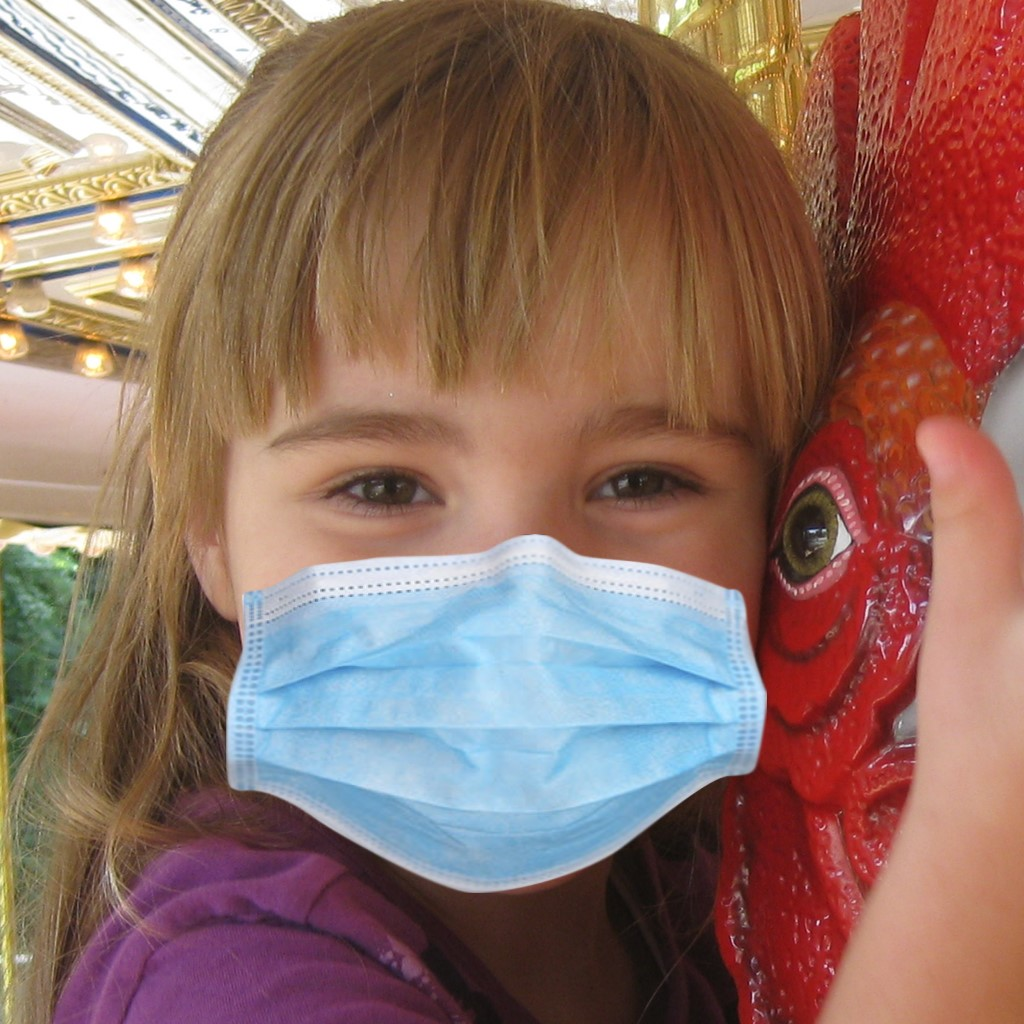con_mascara: (199, 102, 785, 868)
